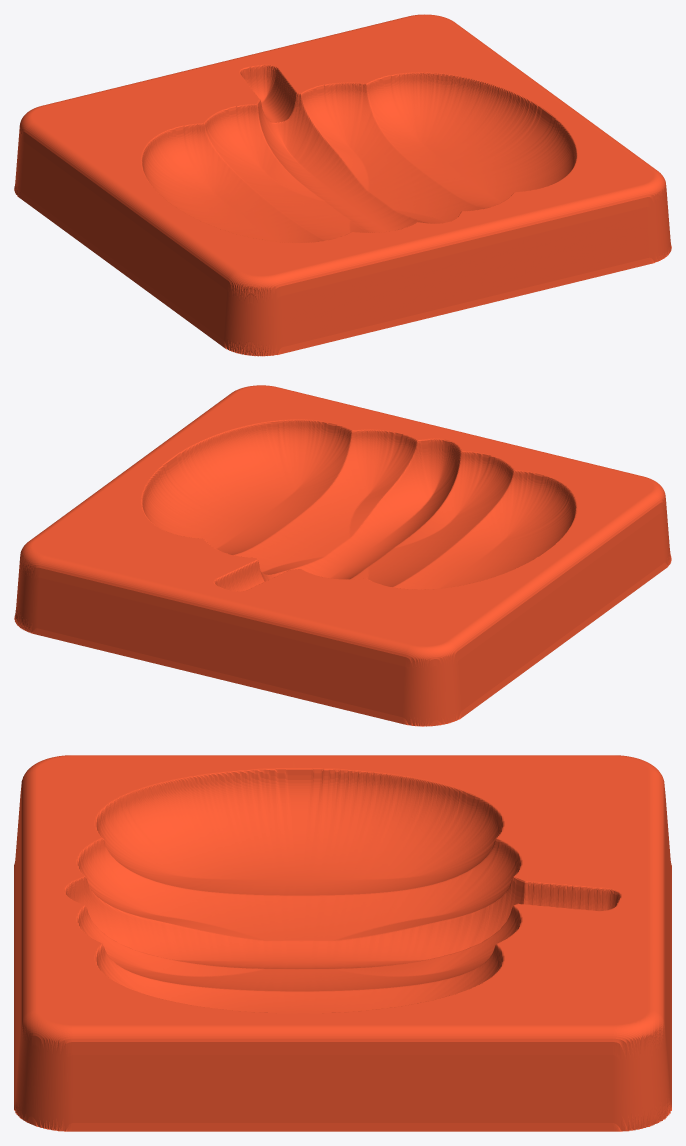
Rendered from mold.glb.
3 renders of one model, top to bottom at view 1: azimuth 30°, elevation 25°; view 2: azimuth 150°, elevation 25°; view 3: azimuth 270°, elevation 25°, orthographic. The views are drawn at different scales.
Visible parts, largest first — view 1: geometry_0; view 2: geometry_0; view 3: geometry_0.
Part boxes in pixels (x1,y1,x2,y2): geometry_0: [14, 14, 671, 356]; geometry_0: [14, 385, 671, 726]; geometry_0: [14, 755, 671, 1131].
Size of the model in its own units: 0.105 by 0.0165 by 0.1014.
